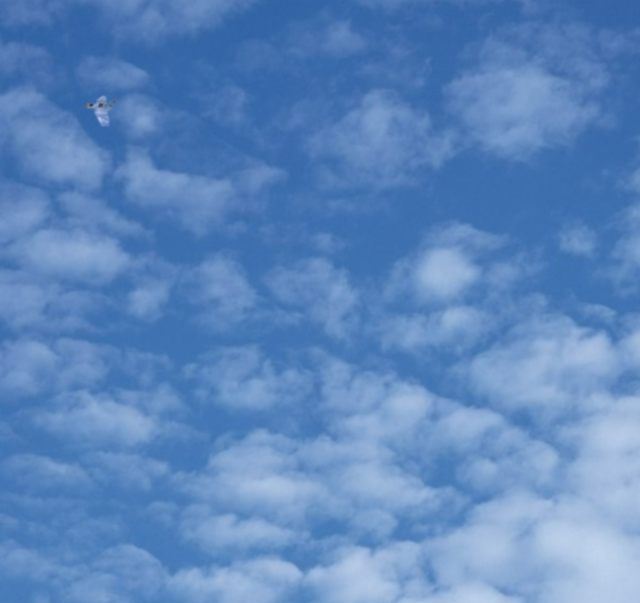military drone: (83, 95, 115, 127)
